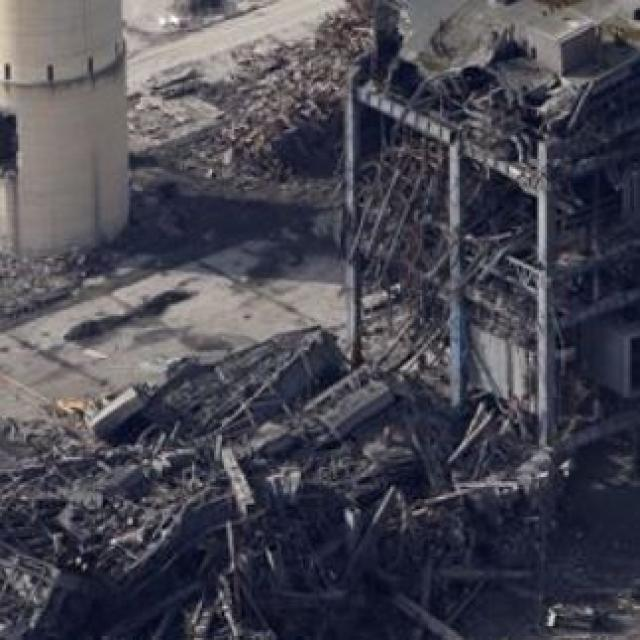collapsed_building: (2, 350, 533, 638), (363, 56, 638, 491)
